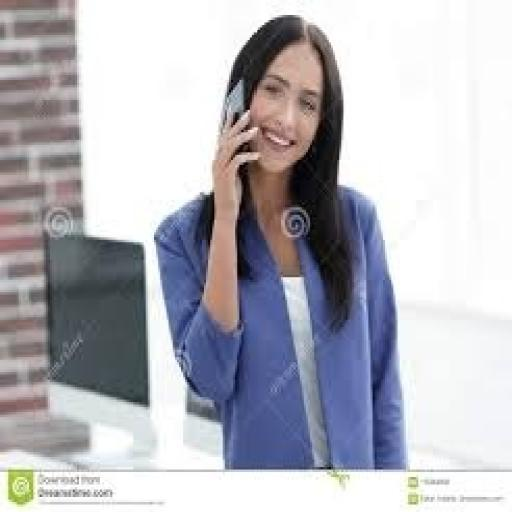calling: (152, 12, 410, 470)
